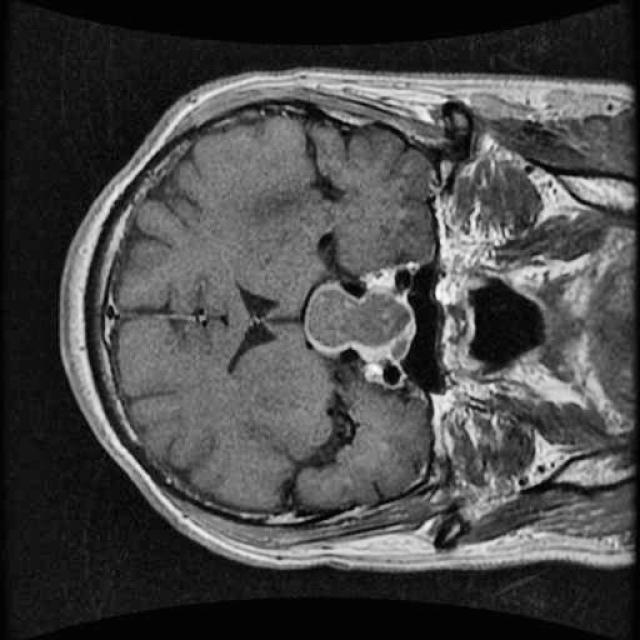Tumor: (296, 268, 419, 372)
